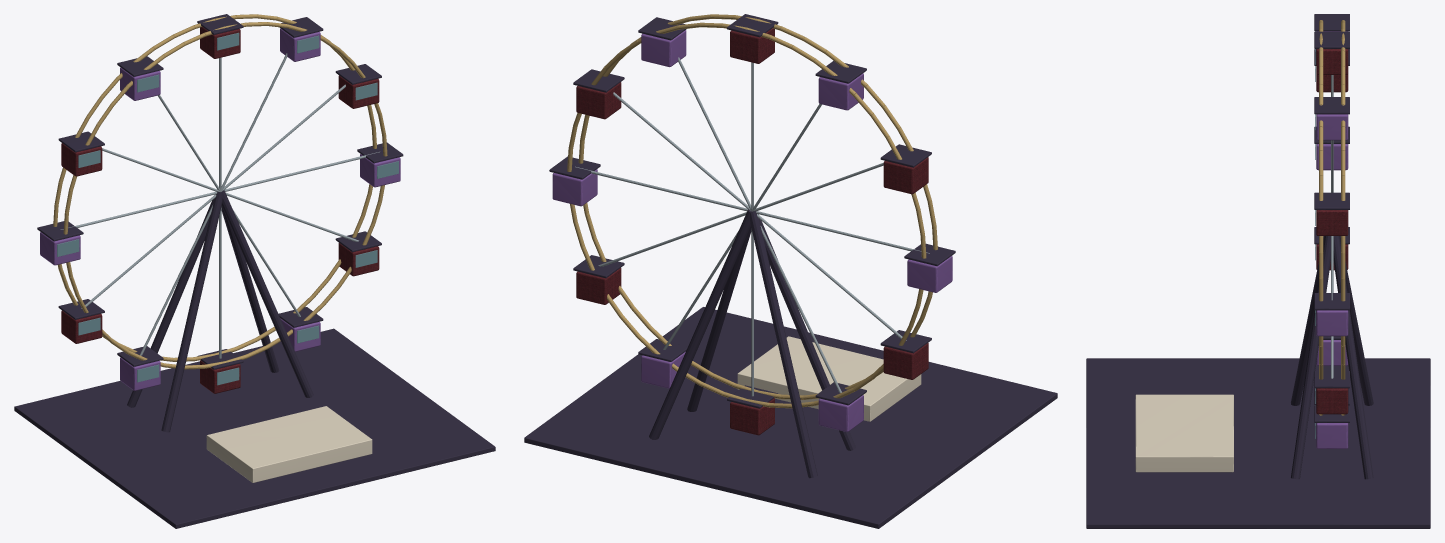
File: finish_ferris_platform.glb
3 views of the same model, side by side, from view 1: azimuth 30°, elevation 25°; view 2: azimuth 150°, elevation 25°; view 3: azimuth 270°, elevation 25° (orthographic). The views are drawn at different scales.
Visible parts, largest first — view 1: exterior_A_frame; view 2: exterior_A_frame; view 3: exterior_A_frame.
Boxes of the visible parts, x1,y1,x2,y2 form: exterior_A_frame: (14, 14, 495, 528); exterior_A_frame: (524, 14, 1057, 528); exterior_A_frame: (1086, 14, 1430, 528).
Bounding box in the file's own units: 17.5 × 18.31 × 14.
7 materials, 1 textured.
